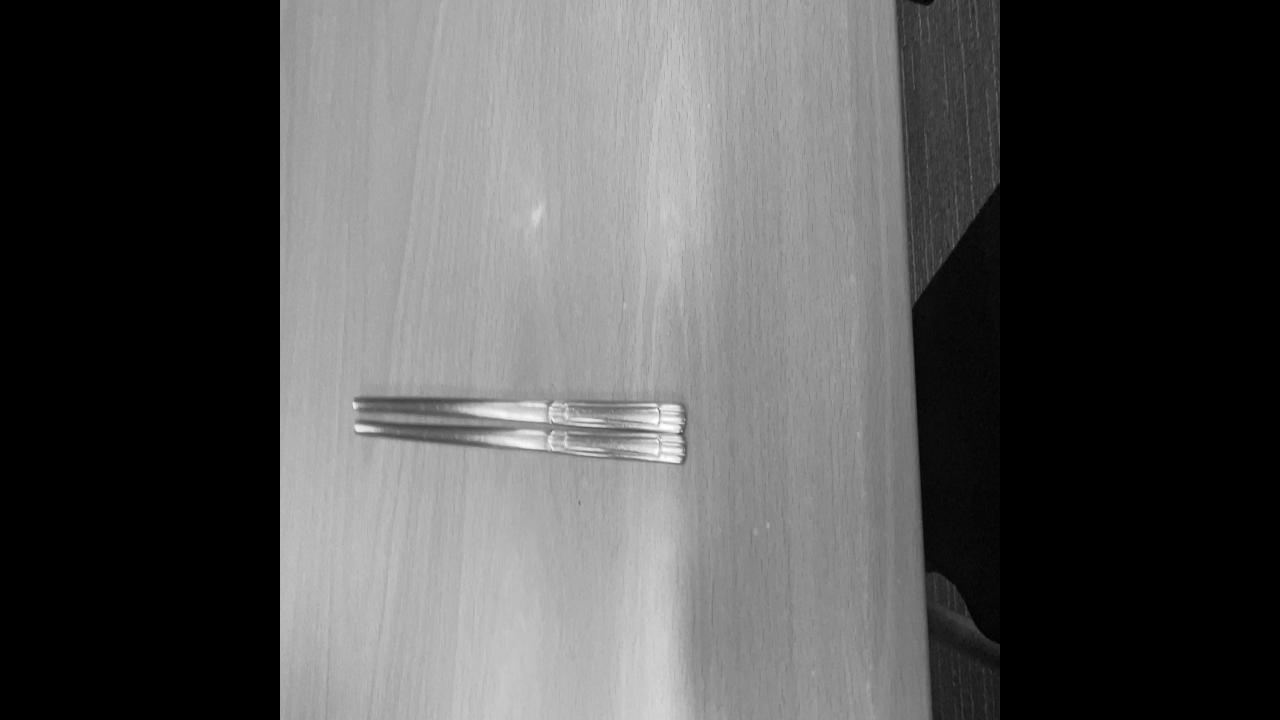chopstick: (350, 390, 684, 463)
